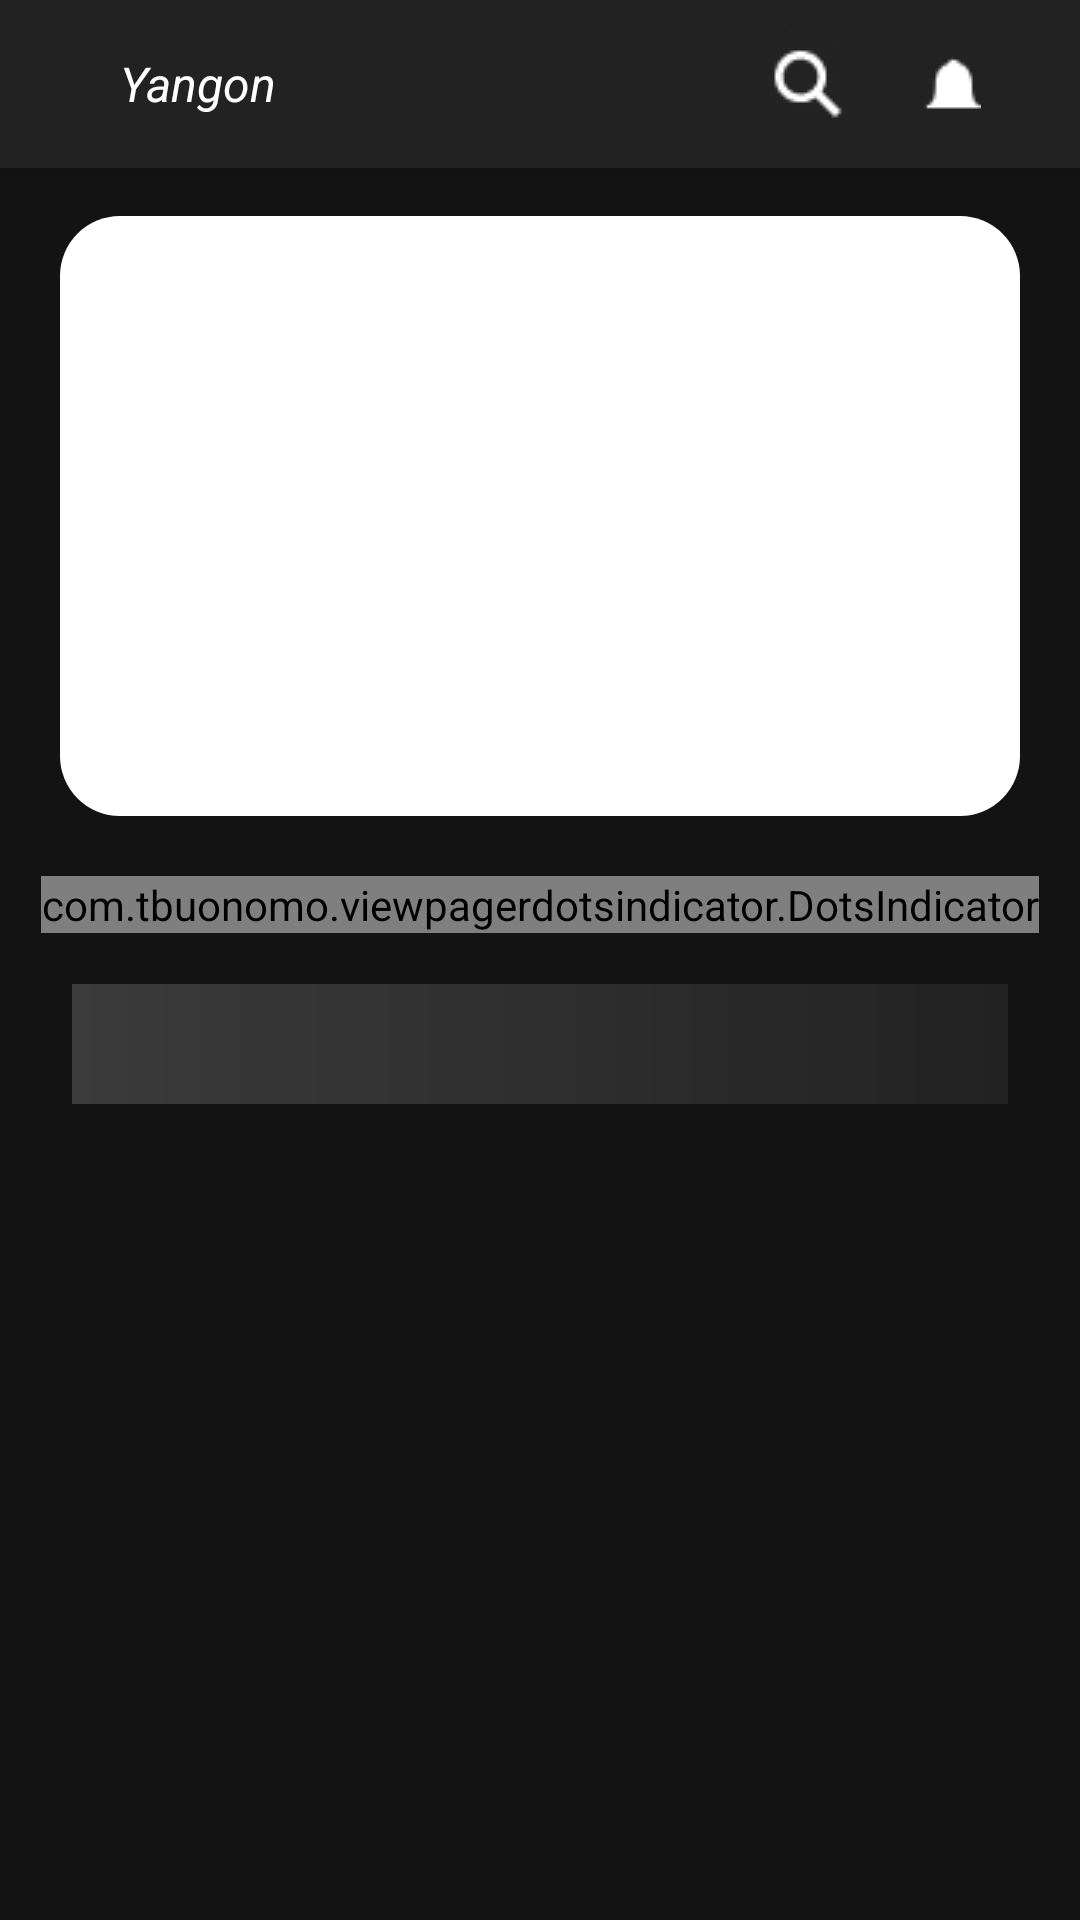

Icon bounding boxes for this 1080x1920 phone screenshot, format (x1, y1, x2, y2):
noti: (926, 59, 981, 109)
search: (774, 50, 842, 118)
